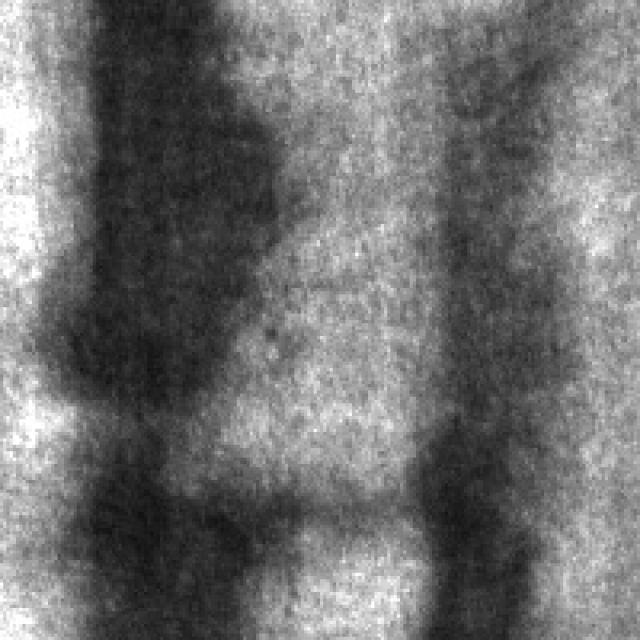patches: (61, 0, 282, 406), (422, 39, 573, 630), (58, 426, 304, 634)
